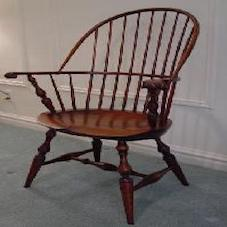chair: (20, 16, 203, 214)
